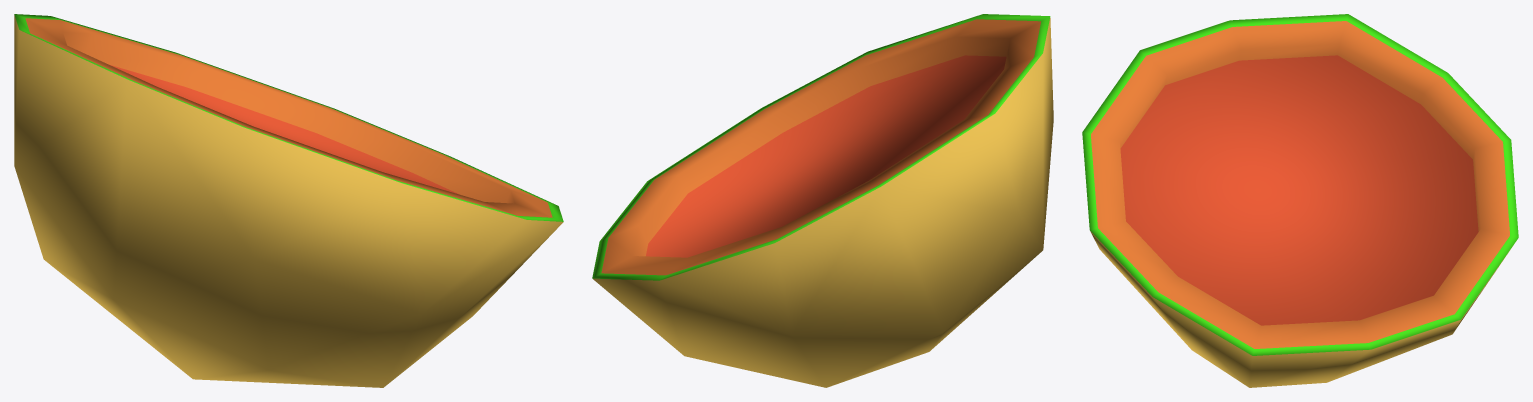
Rendered from MelonHalf.fbx.
3 renders of one model, left to right at view 1: azimuth 30°, elevation 25°; view 2: azimuth 150°, elevation 25°; view 3: azimuth 270°, elevation 25°, orthographic. The views are drawn at different scales.
Parts seen in each view (by area): view 1: MelonHalf; view 2: MelonHalf; view 3: MelonHalf.
Part boxes in pixels (<box>): MelonHalf: <box>14,14,563,387</box>; MelonHalf: <box>592,14,1053,387</box>; MelonHalf: <box>1082,14,1518,387</box>.
Bounding box in the file's own units: 9.09 × 6.71 × 9.71.
